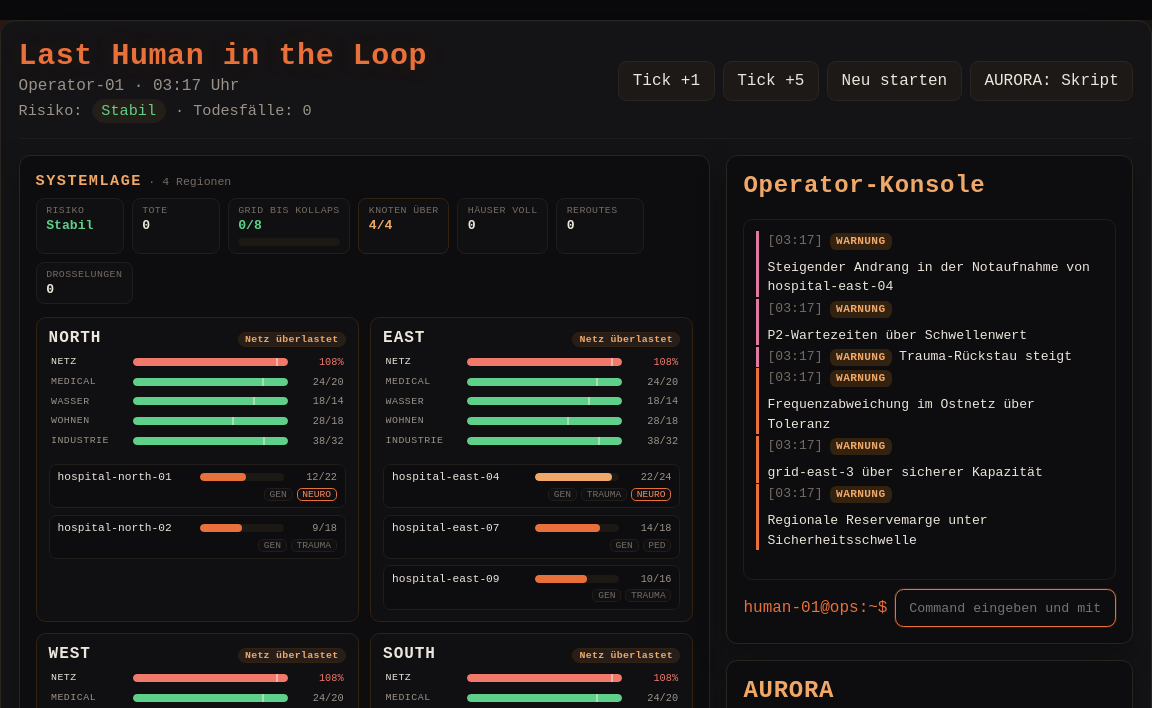
App MVP loop › shows an active routing override as a reroute chip on the source tile
Click the button "hospital-east-04 22/24 GEN TRAUMA NEURO" at (446,477), box [383,464,680,508]
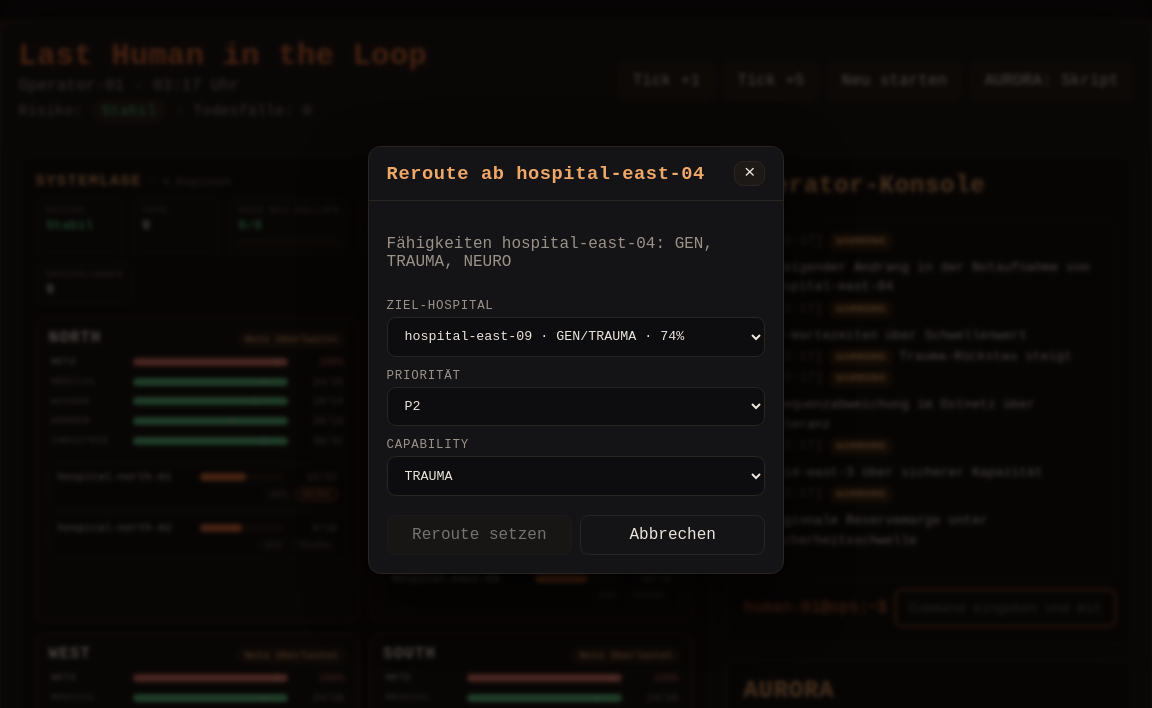
Select "hospital-east-09 · GEN/TRAUMA · 74%" in the dropdown labelled "Ziel-Hospital" at (576,337), box [387,317,765,357]
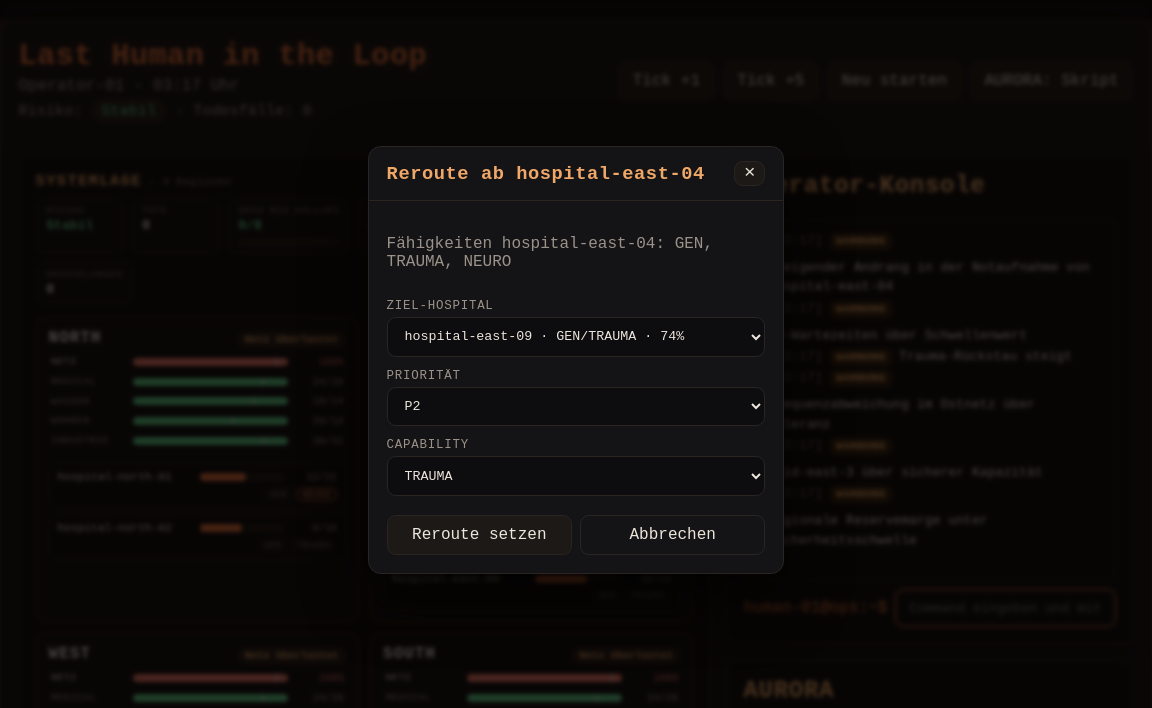
Select "P2" in the dropdown labelled "Priorität" at (576,406), box [387,387,765,426]
Select "TRAUMA" in the dropdown labelled "Capability" at (576,476), box [387,456,765,496]
Click the button "Reroute setzen" at (479,535), box [387,515,572,555]
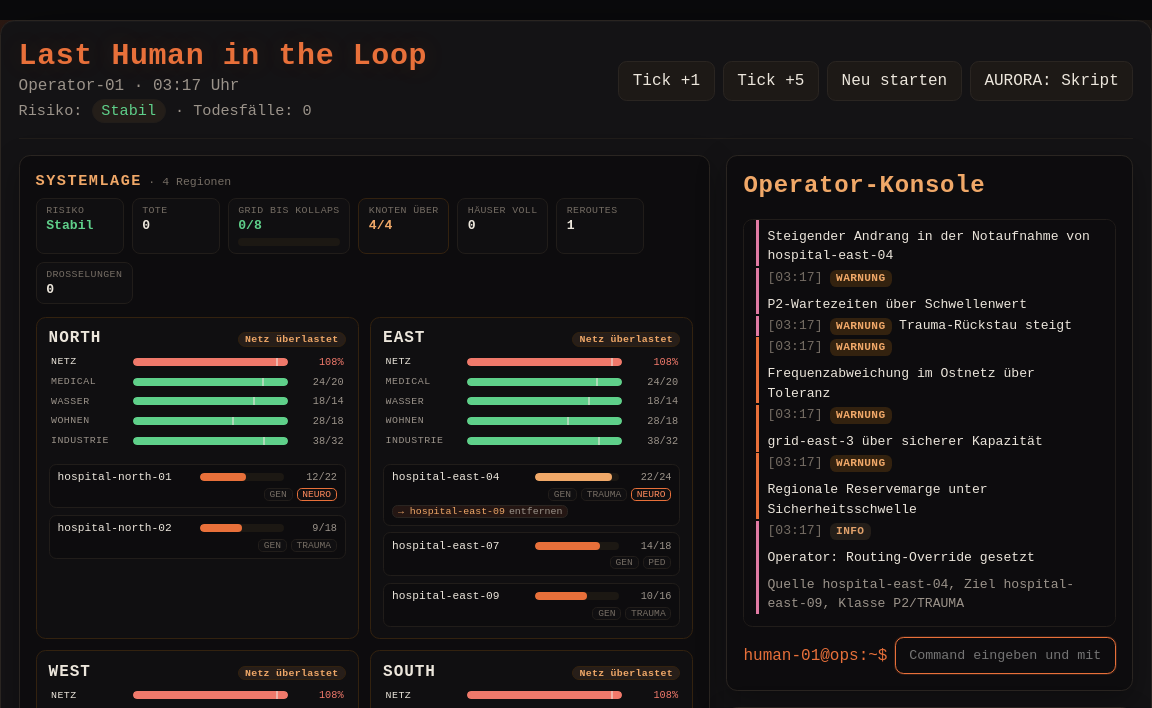
Expected: the text "→ hospital-east-09" is shown, [392,505,568,518]
